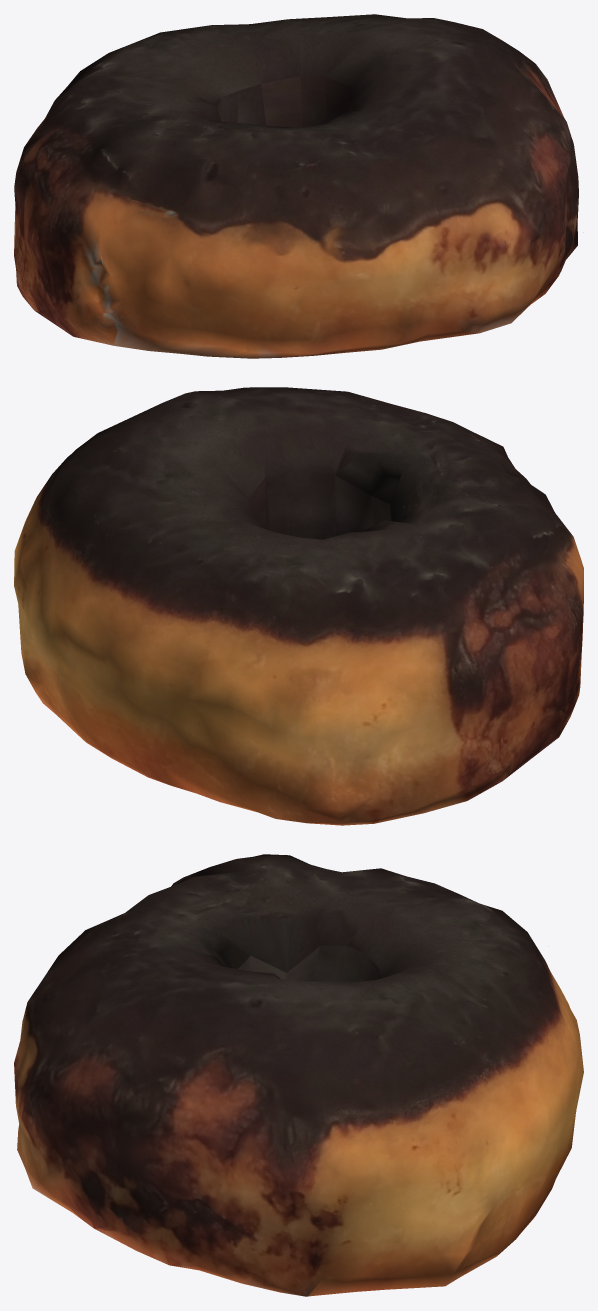
File: булка2.glb
3 renders of one model, top to bottom at view 1: azimuth 30°, elevation 25°; view 2: azimuth 150°, elevation 25°; view 3: azimuth 270°, elevation 25°, orthographic. The views are drawn at different scales.
Parts seen in each view (by area): view 1: 3DModel_Retopo.001; view 2: 3DModel_Retopo.001; view 3: 3DModel_Retopo.001.
Part boxes in pixels (x1=…): 3DModel_Retopo.001: x1=14, y1=14, x2=578, y2=358; 3DModel_Retopo.001: x1=14, y1=387, x2=583, y2=825; 3DModel_Retopo.001: x1=14, y1=854, x2=583, y2=1296.
Bounding box in the file's own units: 0.5385 × 0.2475 × 0.4779.
1 material, 1 textured.
